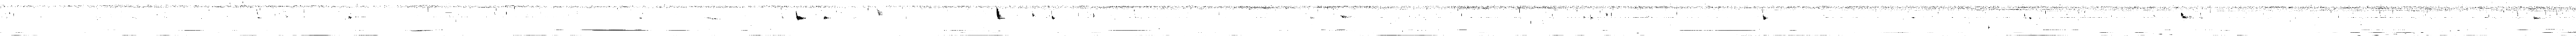meteor: (795, 10, 807, 21), (996, 7, 1005, 20), (876, 8, 884, 16), (2180, 13, 2190, 18), (823, 15, 831, 20), (2533, 15, 2541, 20), (1341, 15, 1352, 18), (1763, 15, 1769, 20), (1051, 15, 1056, 20)
